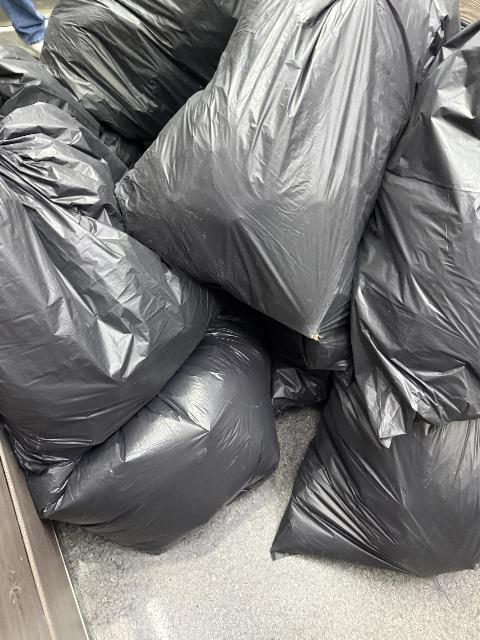Plastik: (121, 7, 428, 296), (0, 115, 205, 440), (8, 314, 278, 548), (344, 48, 480, 428), (279, 378, 474, 561), (46, 4, 229, 133)
